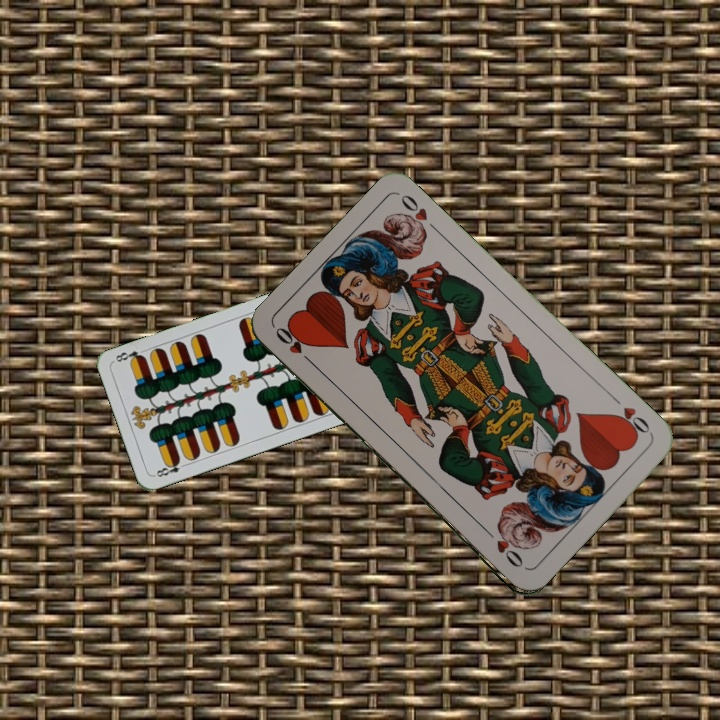E8: (150, 456, 190, 480)
HO: (607, 391, 654, 441), (271, 323, 318, 369)
